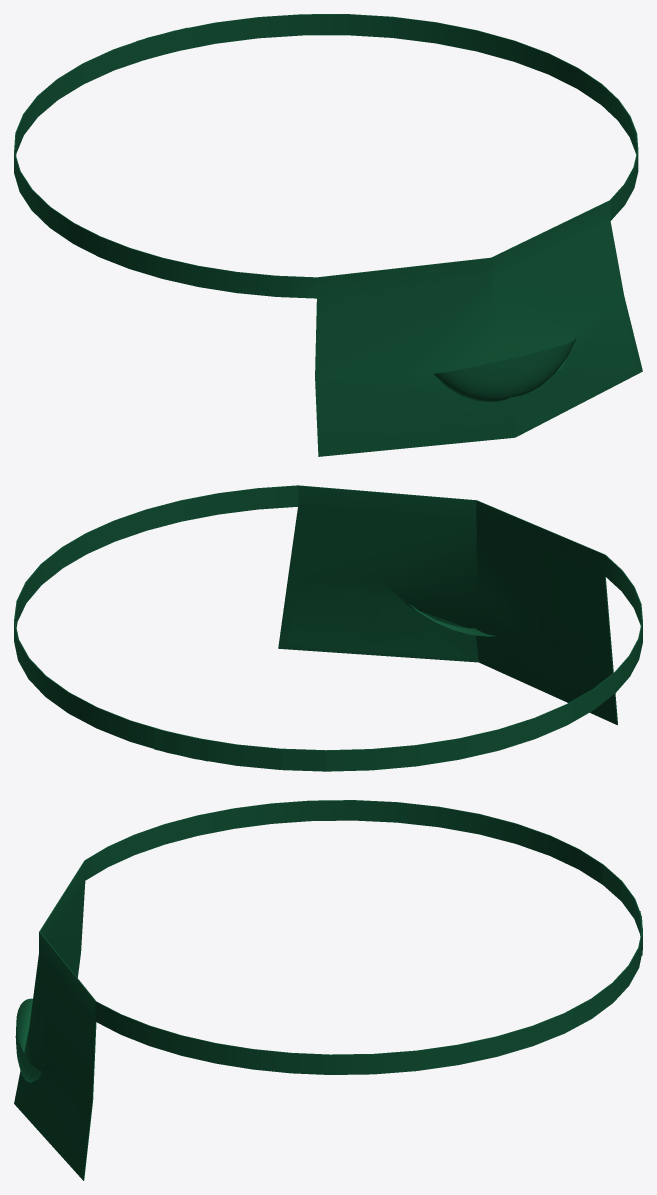
The model's file is GhostApron.fbx.
3 renders of one model, top to bottom at view 1: azimuth 30°, elevation 25°; view 2: azimuth 150°, elevation 25°; view 3: azimuth 270°, elevation 25°, orthographic. The views are drawn at different scales.
Visible parts, largest first — view 1: Apron; view 2: Apron; view 3: Apron.
Boxes of the visible parts, x1,y1,x2,y2 form: Apron: [14, 14, 642, 456]; Apron: [14, 485, 642, 771]; Apron: [14, 800, 642, 1180].
Size of the model in its own units: 201 by 61.27 by 209.
